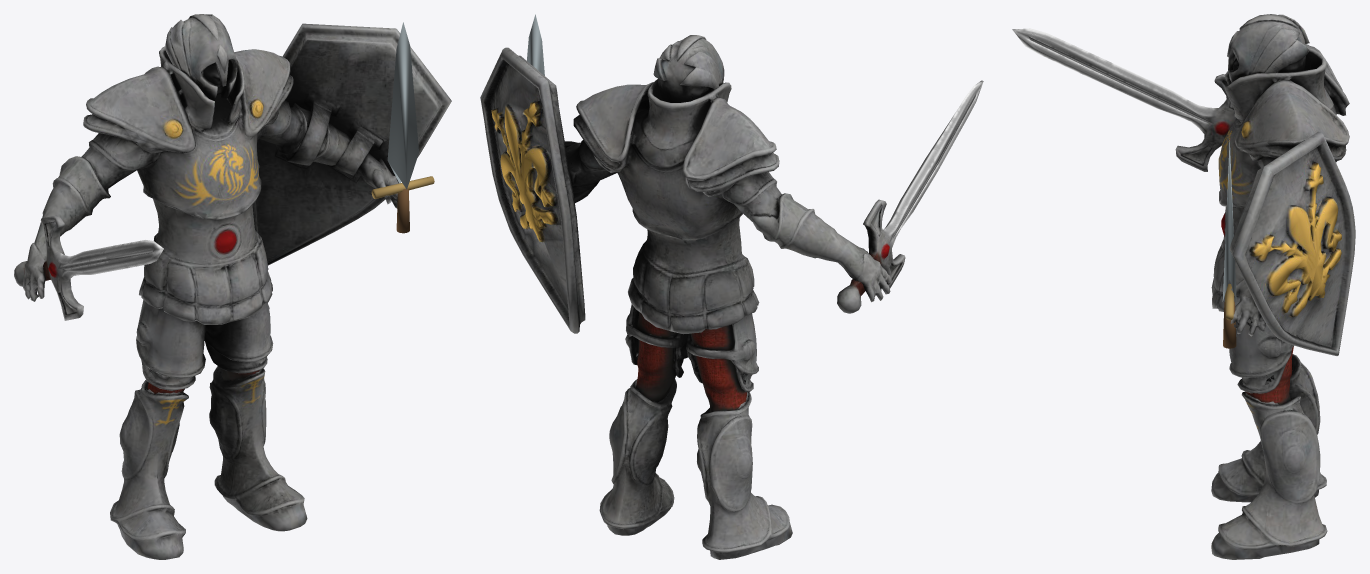
The model's file is actor-swordsman.glb.
The picture shows the model from 3 angles, left to right: view 1: azimuth 30°, elevation 25°; view 2: azimuth 150°, elevation 25°; view 3: azimuth 270°, elevation 25°; orthographic projection. The views are drawn at different scales.
Parts seen in each view (by area): view 1: Group61487.001 · posed; view 2: Group61487.001 · posed; view 3: Group61487.001 · posed.
Boxes of the visible parts, x1,y1,x2,y2 form: Group61487.001 · posed: [14, 14, 451, 559]; Group61487.001 · posed: [480, 14, 983, 559]; Group61487.001 · posed: [1012, 14, 1355, 559].
Bounding box in the file's own units: 1.72 × 2 × 1.22.
4 materials, 1 textured.
